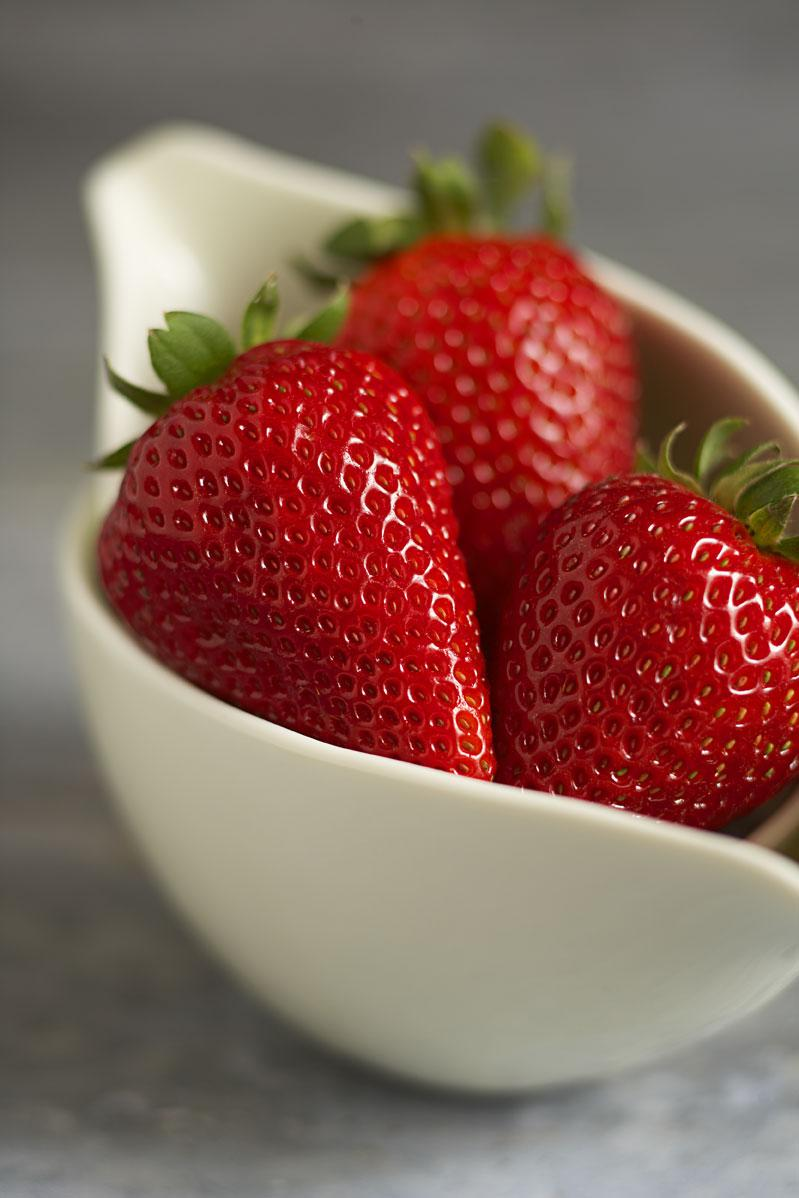strawberry: (97, 305, 490, 784), (500, 436, 799, 824), (345, 153, 646, 516)
